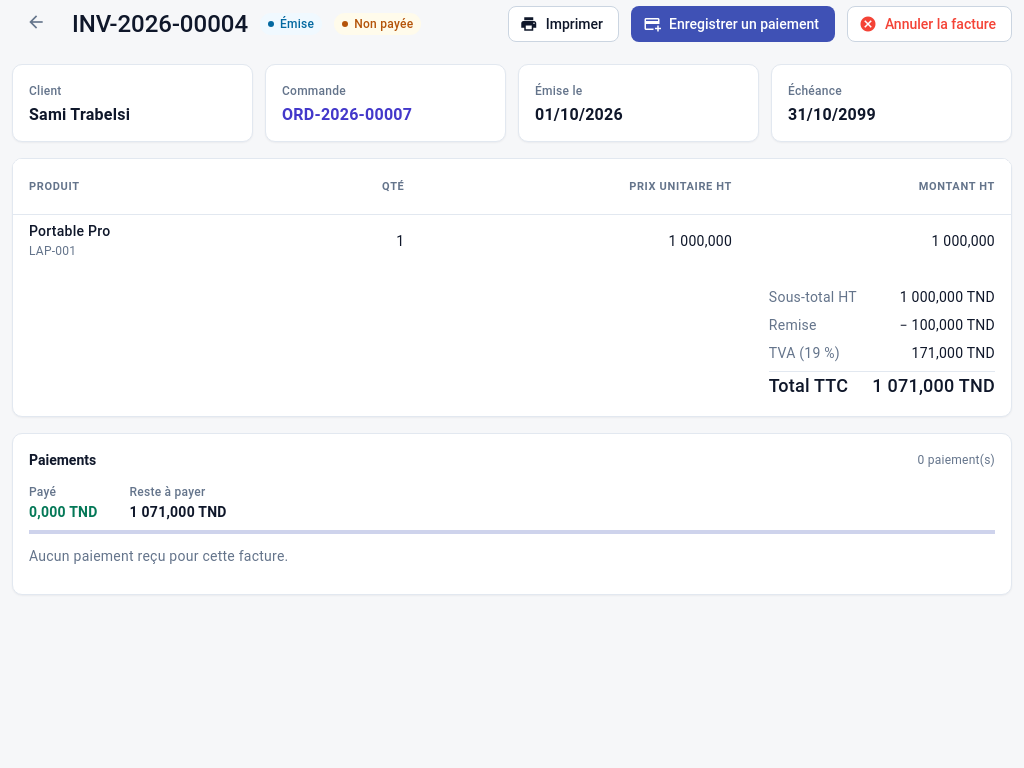
Test case: InvoiceDetailComponent › explains in French why the cancellation was refused
The image size is (1024, 768).
Click the button with id "cancel-button" at (929, 24), box [847,6,1012,42]
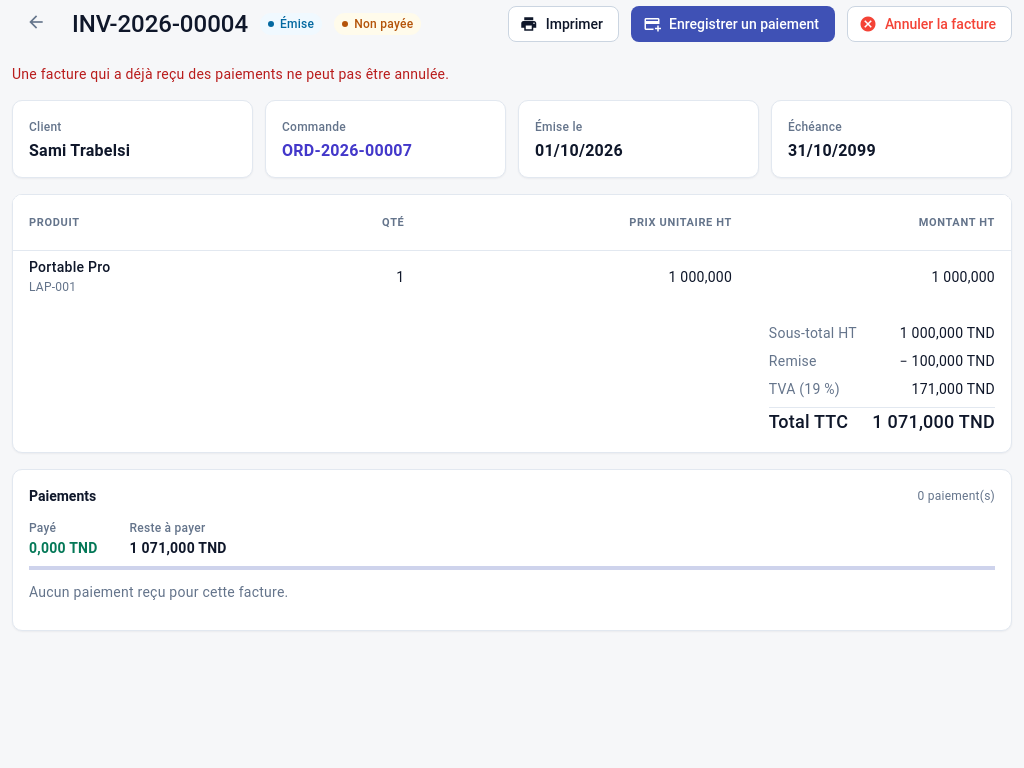
Result: the message with class "action-error" reads "Une facture qui a déjà reçu des paiements ne peut pas être annulée." at [12,66,449,82]
